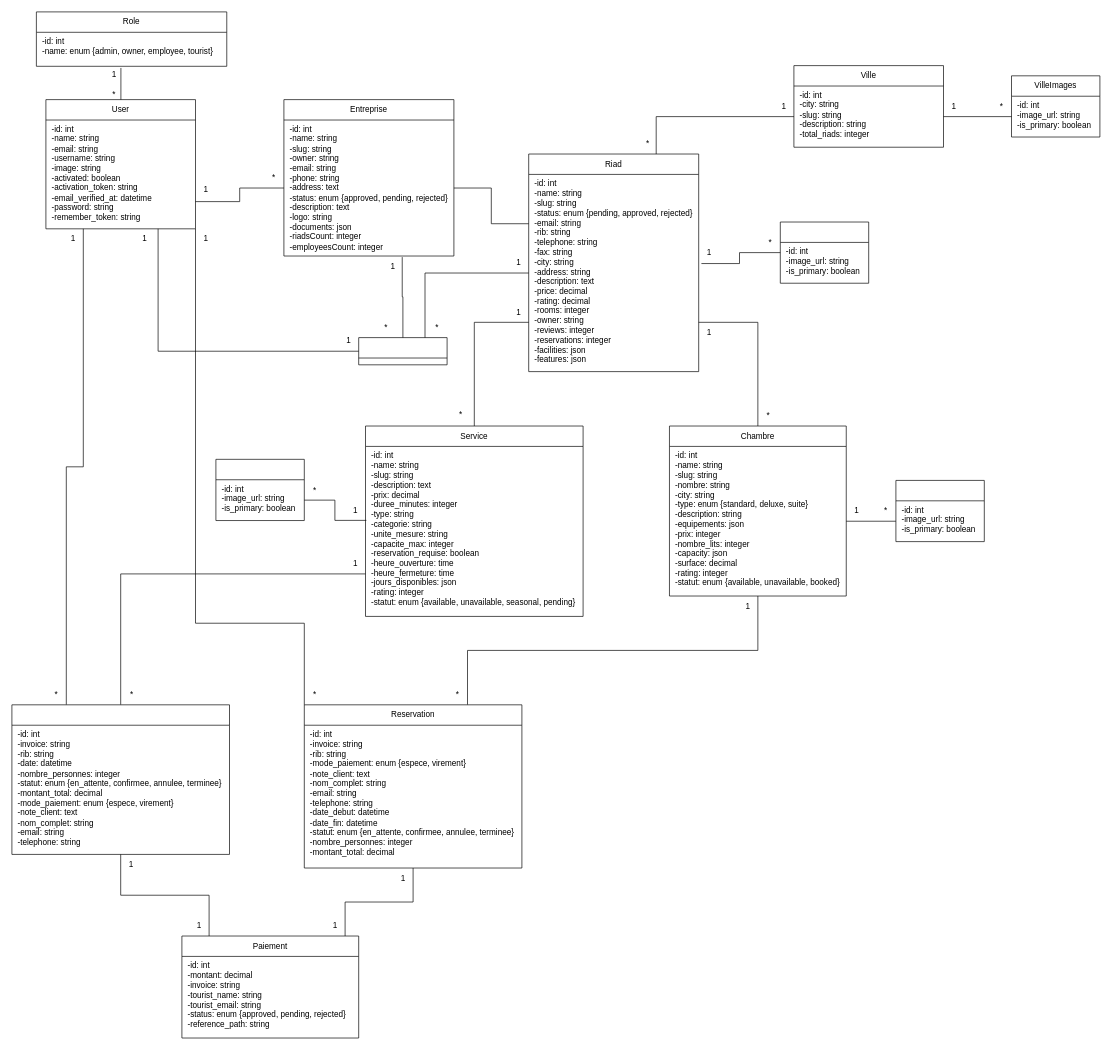
This 1112x1050 diagram has some shape labels left out. The shapes that lost their labels are listed below. From the top down, each one's box as (x1, y1, x2, y2) in pixels, then its label:
(780, 221, 869, 283): RiadImages
(358, 337, 447, 365): Employe
(215, 459, 304, 521): ServiceImages
(895, 480, 984, 542): ChambreImages
(11, 704, 230, 854): ServiceReservation
